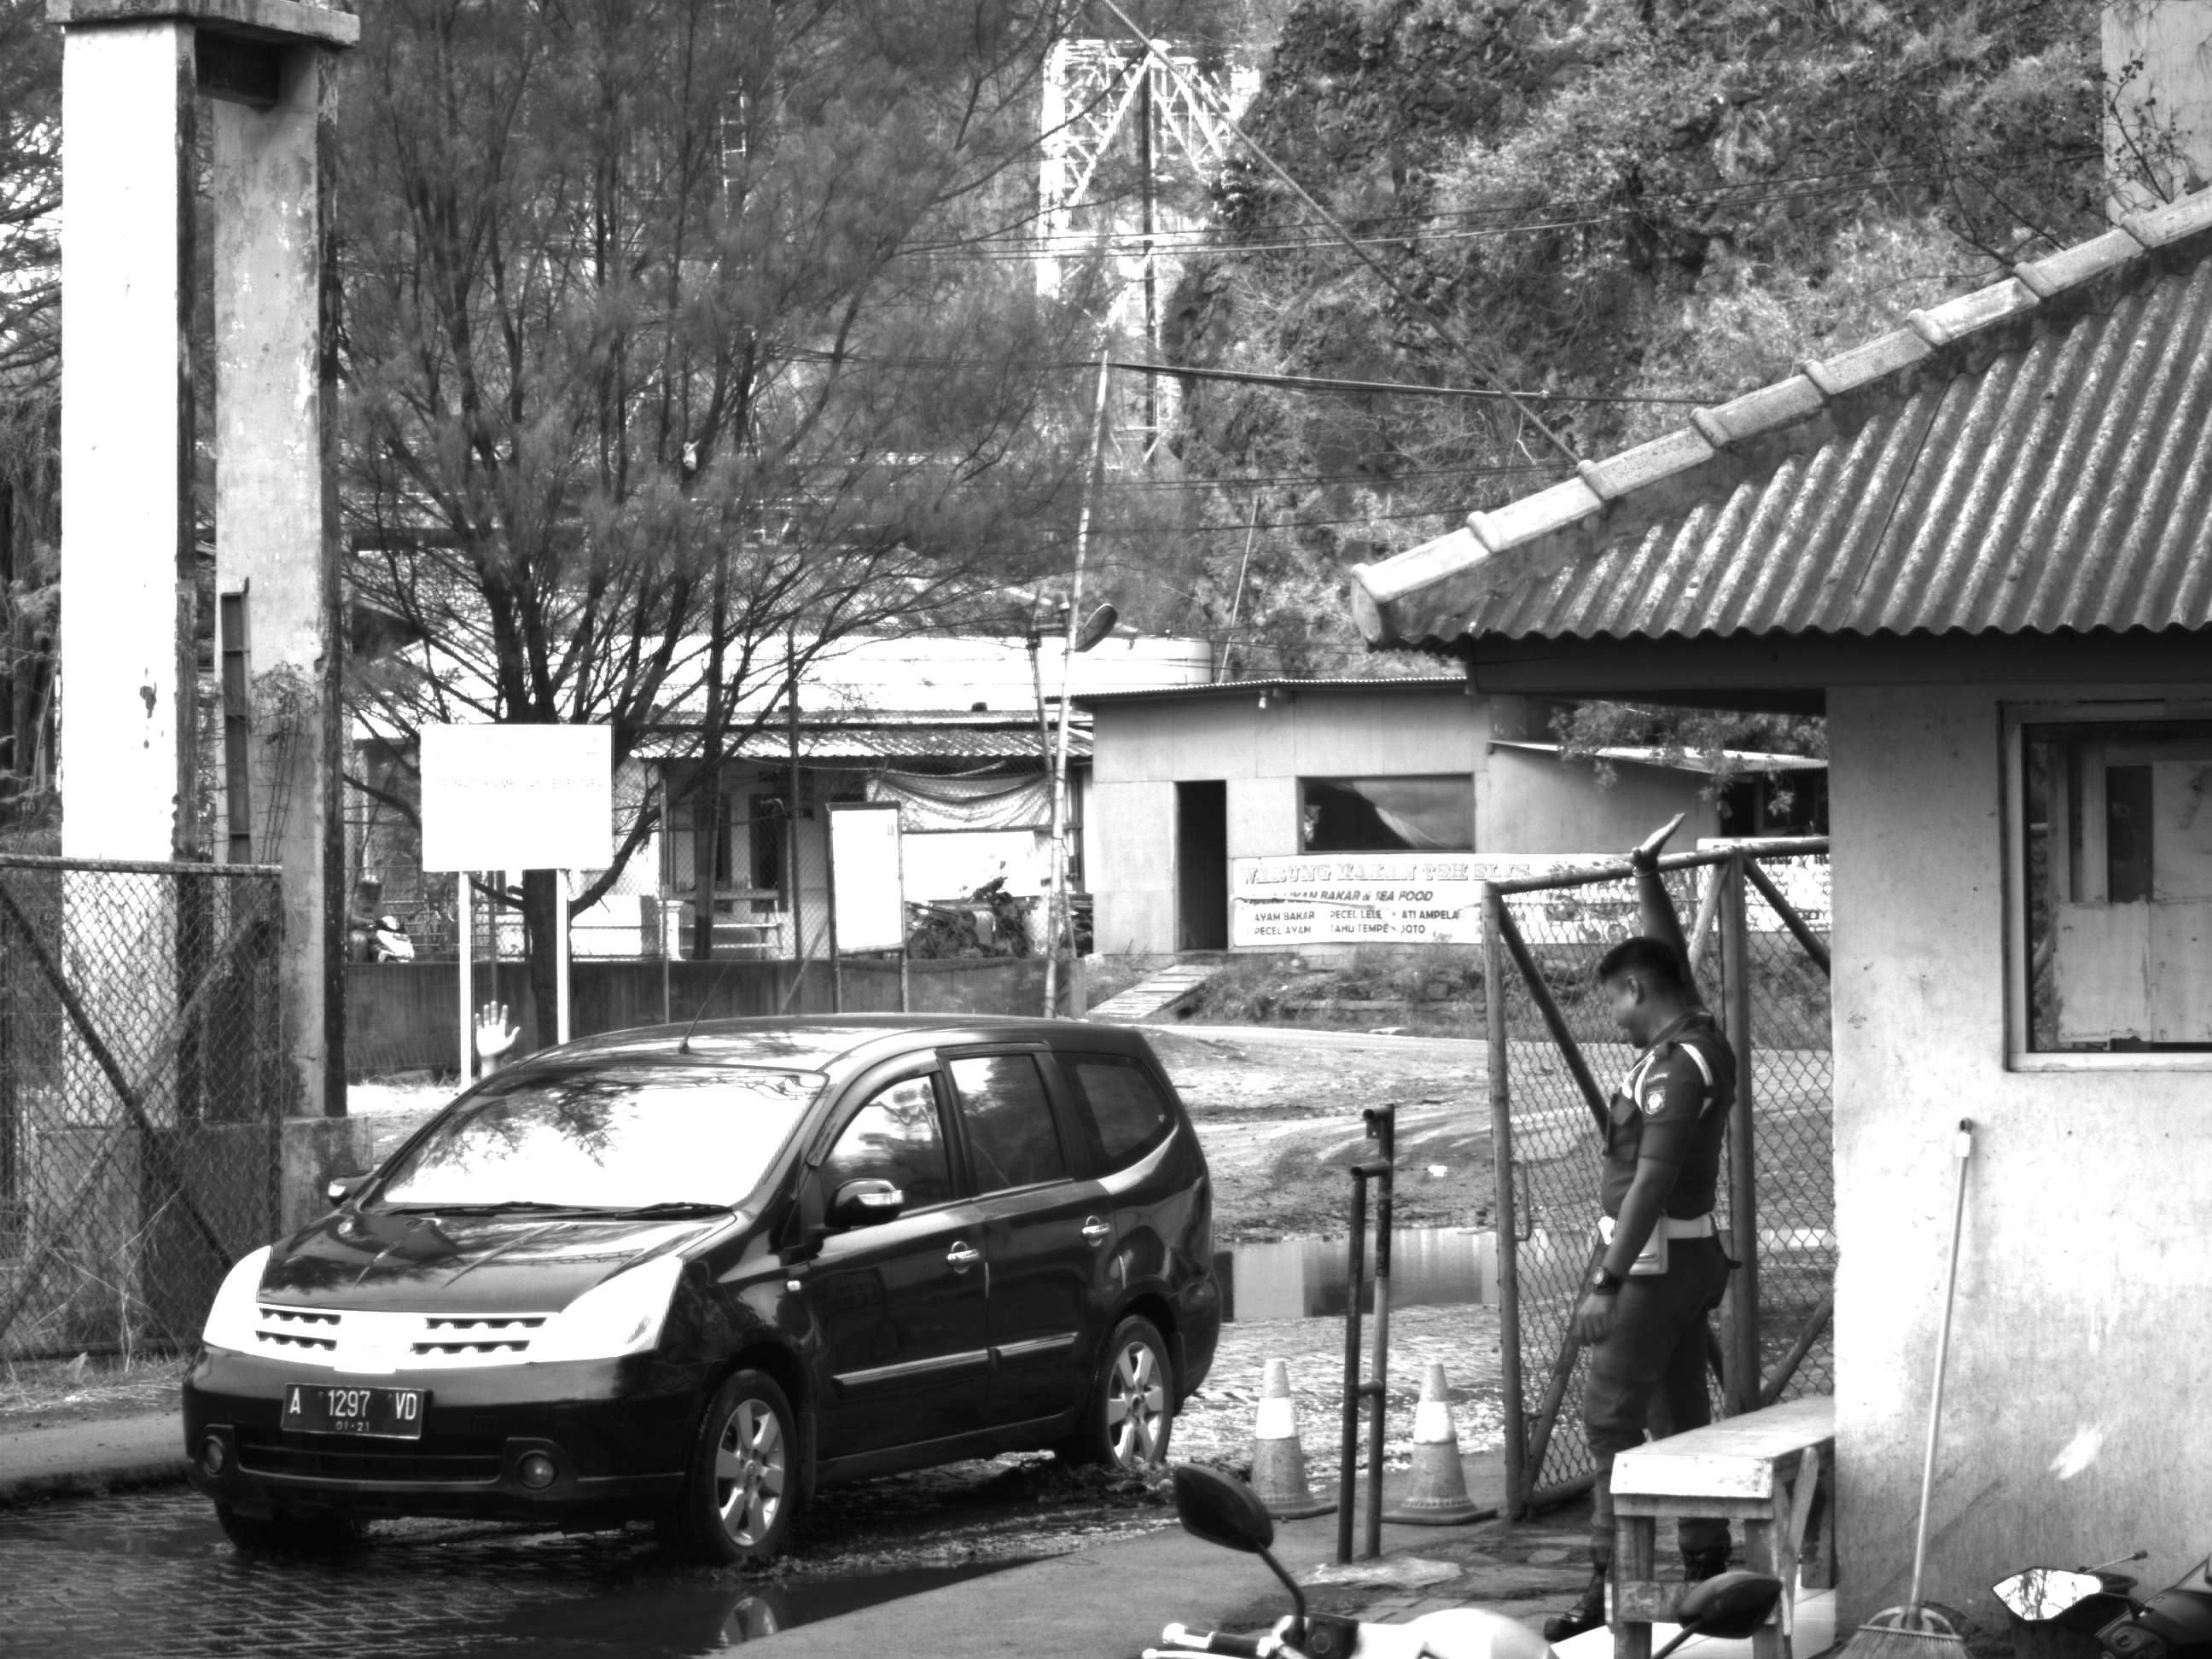day_small_front: (177, 1010, 825, 1577)
plate: (271, 1371, 435, 1450)
